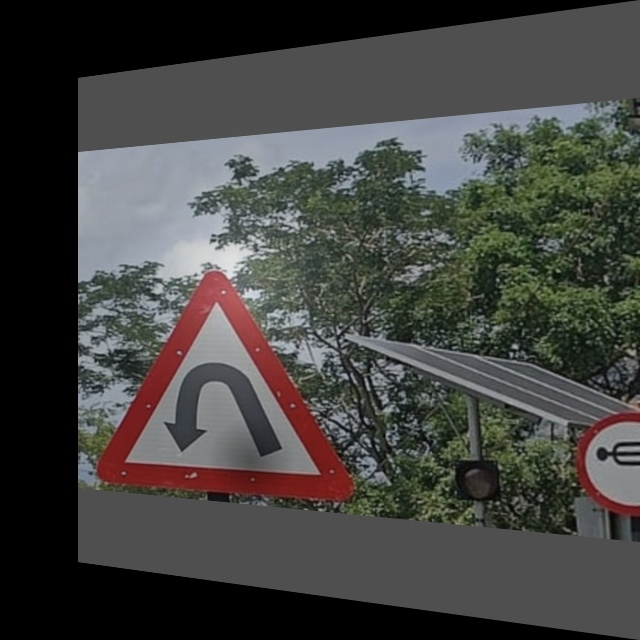Left_Hair_Pin_Bend: (97, 267, 361, 505)
